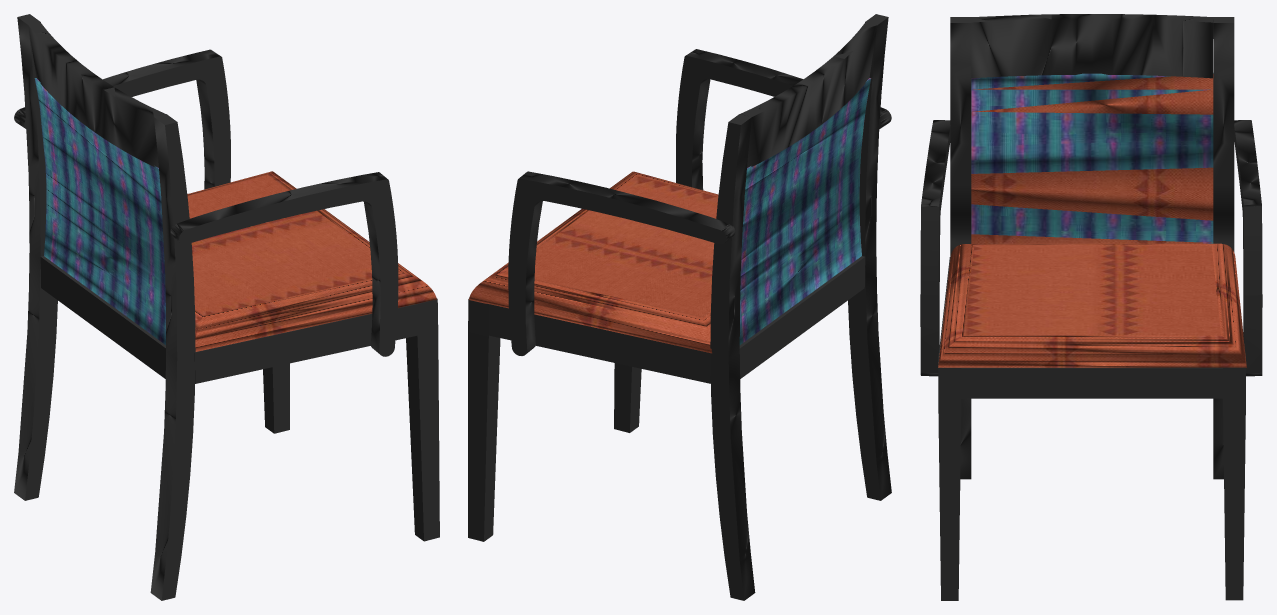
3 renders of one model, left to right at view 1: azimuth 30°, elevation 25°; view 2: azimuth 150°, elevation 25°; view 3: azimuth 270°, elevation 25°, orthographic. The views are drawn at different scales.
Parts seen in each view (by area): view 1: mesh23.002_mesh23-geometry; view 2: mesh23.002_mesh23-geometry; view 3: mesh23.002_mesh23-geometry.
Part boxes in pixels (<box>): mesh23.002_mesh23-geometry: <box>14,14,439,600</box>; mesh23.002_mesh23-geometry: <box>468,14,891,600</box>; mesh23.002_mesh23-geometry: <box>920,14,1262,600</box>.
Size of the model in its own units: 0.4542 by 0.7373 by 0.4997.
